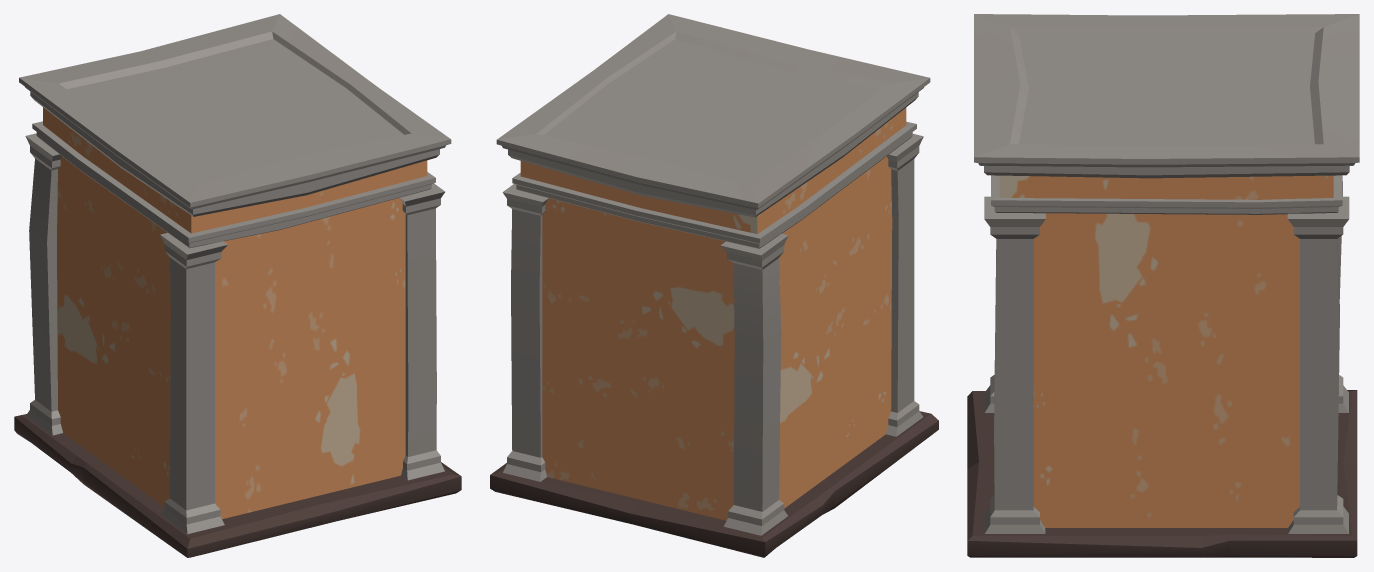
Rendered from SM_Bld_Cuba_Hall_Room_03.glb.
The picture shows the model from 3 angles, left to right: view 1: azimuth 30°, elevation 25°; view 2: azimuth 150°, elevation 25°; view 3: azimuth 270°, elevation 25°; orthographic projection. The views are drawn at different scales.
Visible parts, largest first — view 1: SM_Bld_Cuba_Hall_Room_03; view 2: SM_Bld_Cuba_Hall_Room_03; view 3: SM_Bld_Cuba_Hall_Room_03.
Boxes of the visible parts, bbox=[...] form: SM_Bld_Cuba_Hall_Room_03: bbox=[14, 14, 461, 557]; SM_Bld_Cuba_Hall_Room_03: bbox=[490, 14, 938, 557]; SM_Bld_Cuba_Hall_Room_03: bbox=[967, 14, 1359, 557].
Bounding box in the file's own units: 0.0359 × 0.0442 × 0.0394.
Materials: 1 (1 with a texture image).
